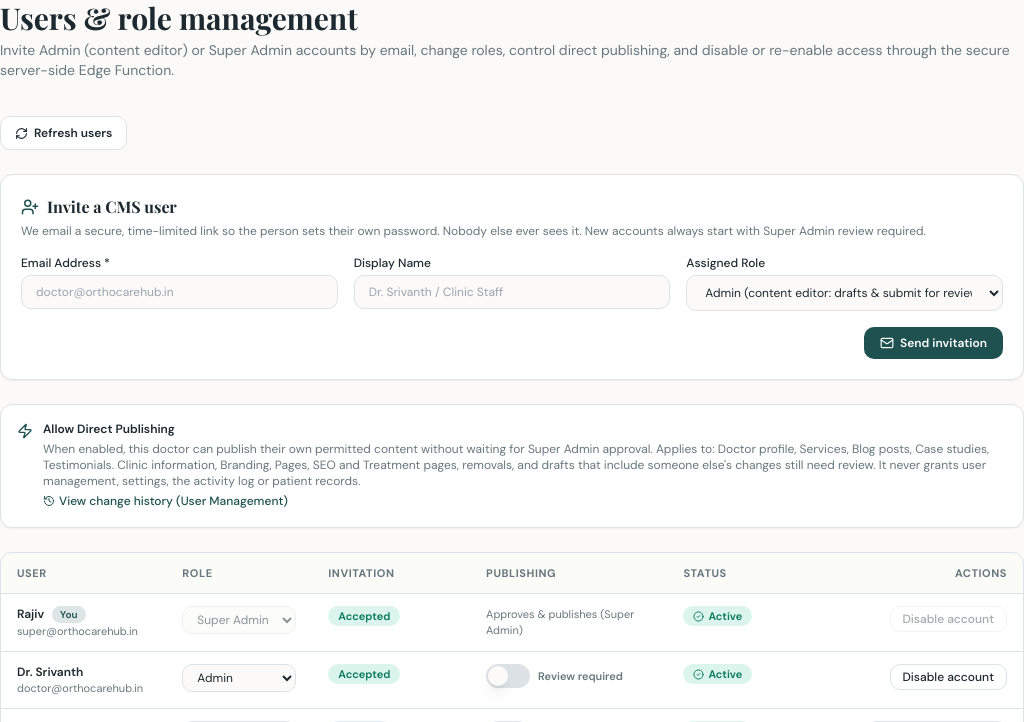
Test: Allow Direct Publishing › cancelling the confirmation changes nothing
This screenshot has width=1024, height=722.
Expected: the text "doctor@orthocarehub.in" is shown, x1=17 y1=680 x2=150 y2=696
Click the switch named "allow direct publishing for doctor@orthocarehub.in": point(508, 676) x1=486 y1=664 x2=530 y2=688
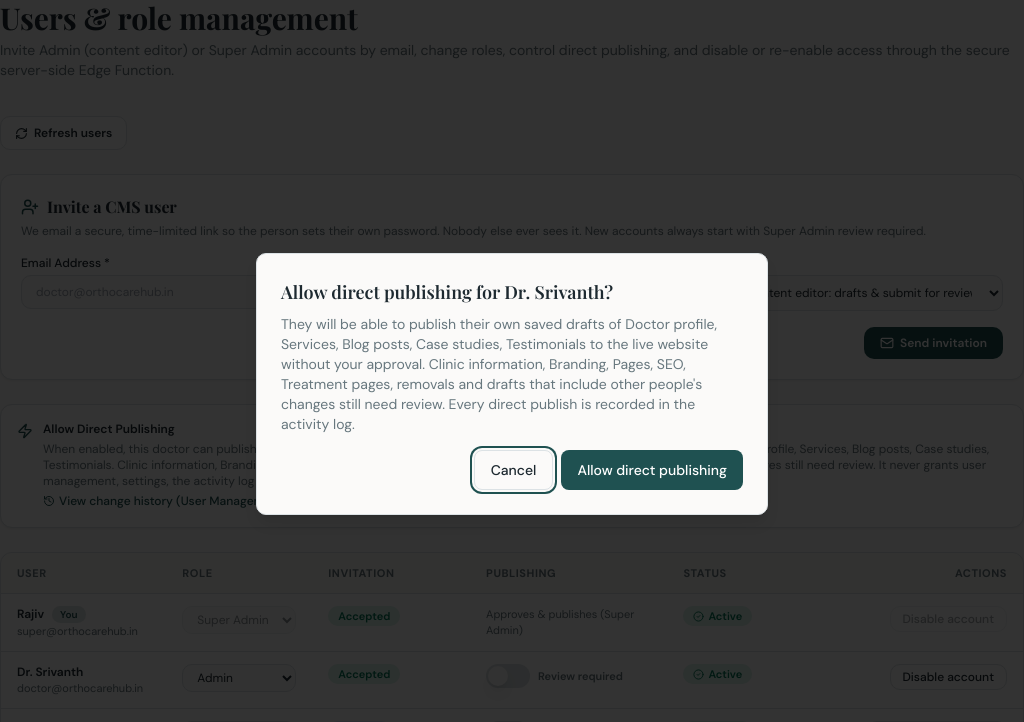
Click the button "Cancel": point(514, 470) x1=474 y1=450 x2=554 y2=490
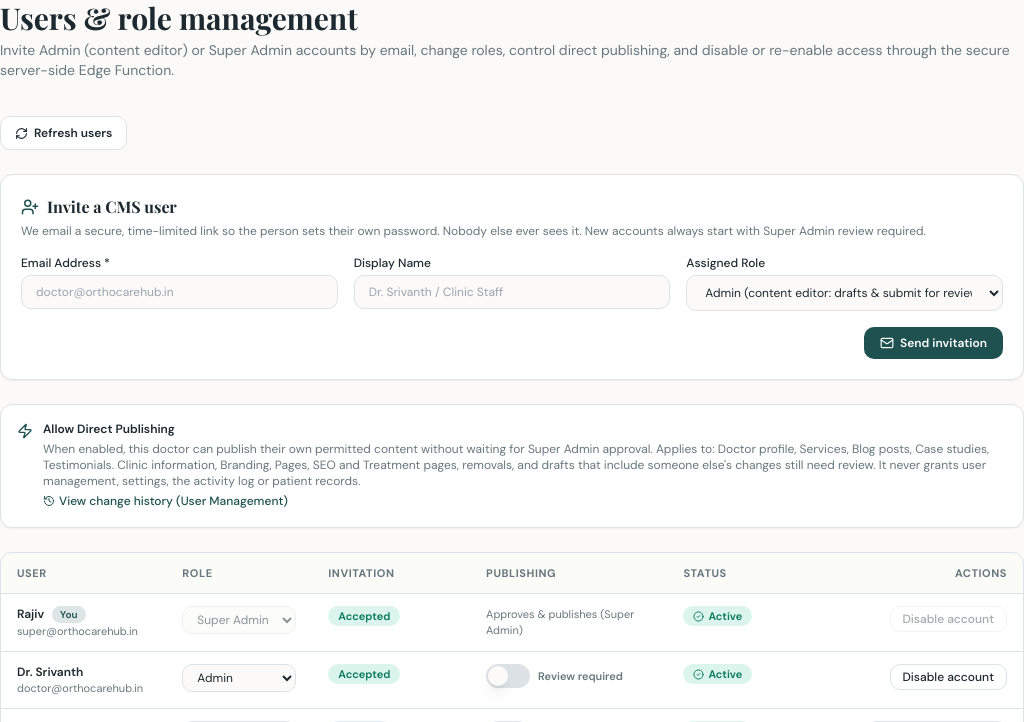
Now the dialog is gone
